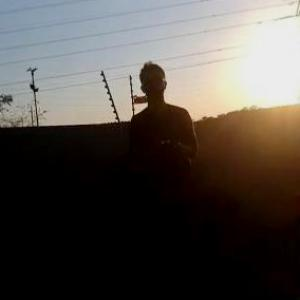follow: (128, 59, 207, 299)
